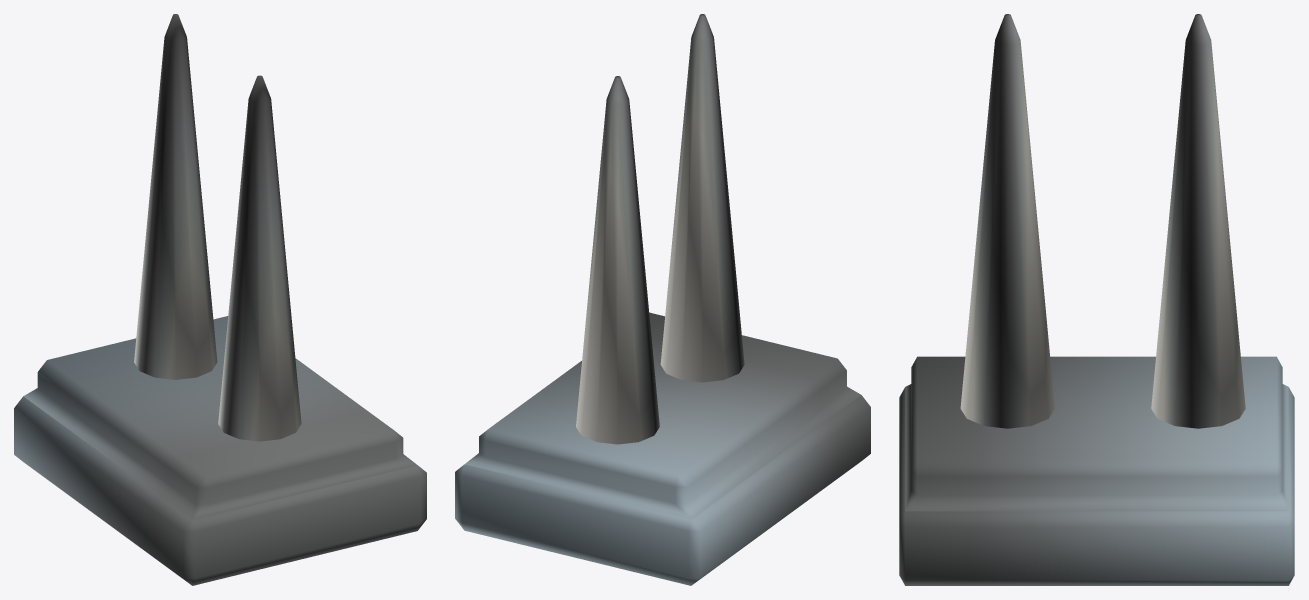
The model's file is Spikes3.fbx.
3 renders of one model, left to right at view 1: azimuth 30°, elevation 25°; view 2: azimuth 150°, elevation 25°; view 3: azimuth 270°, elevation 25°, orthographic. The views are drawn at different scales.
Parts seen in each view (by area): view 1: Spikes3; view 2: Spikes3; view 3: Spikes3.
Part boxes in pixels (left/top/right/bottom): Spikes3: left=14, top=14, right=426, bottom=585; Spikes3: left=455, top=14, right=870, bottom=585; Spikes3: left=899, top=14, right=1294, bottom=585.
Size of the model in its own units: 140 by 246 by 174.
